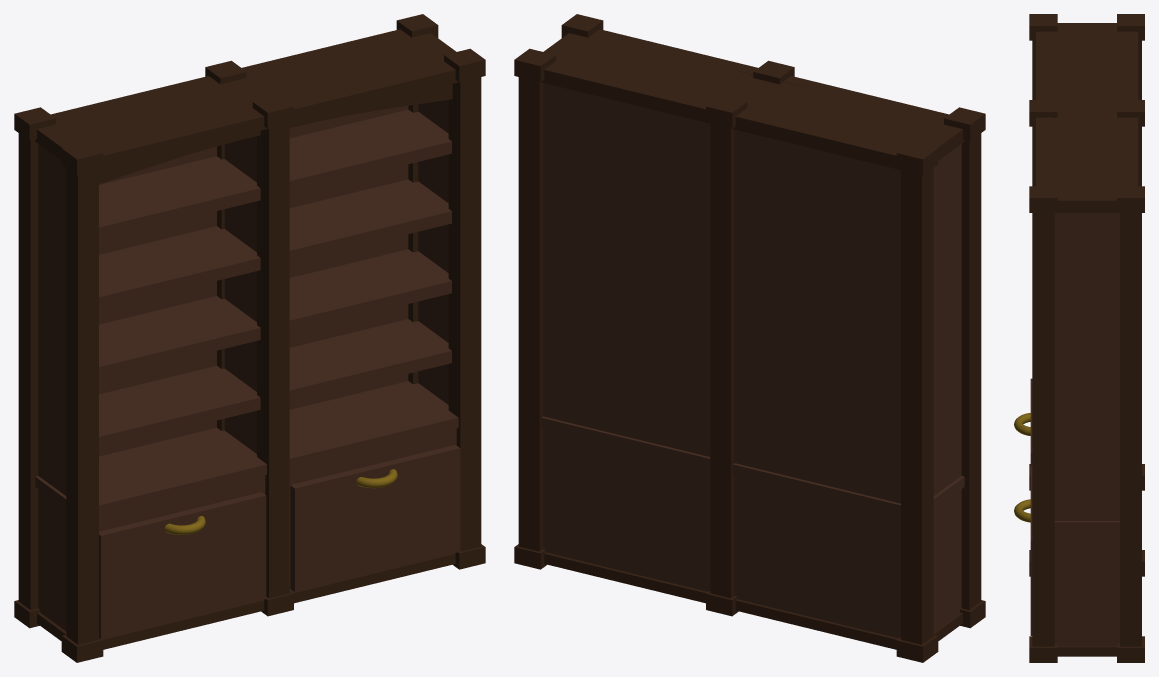
The model's file is bookshelf_s.fbx.
3 renders of one model, left to right at view 1: azimuth 30°, elevation 25°; view 2: azimuth 150°, elevation 25°; view 3: azimuth 270°, elevation 25°, orthographic. The views are drawn at different scales.
Visible parts, largest first — view 1: Cube.002; view 2: Cube.002; view 3: Cube.002.
Part boxes in pixels (bbox=[...]): Cube.002: bbox=[14, 14, 485, 662]; Cube.002: bbox=[514, 14, 985, 662]; Cube.002: bbox=[1014, 14, 1144, 662].
Bounding box in the file's own units: 321 × 378 × 96.37.
